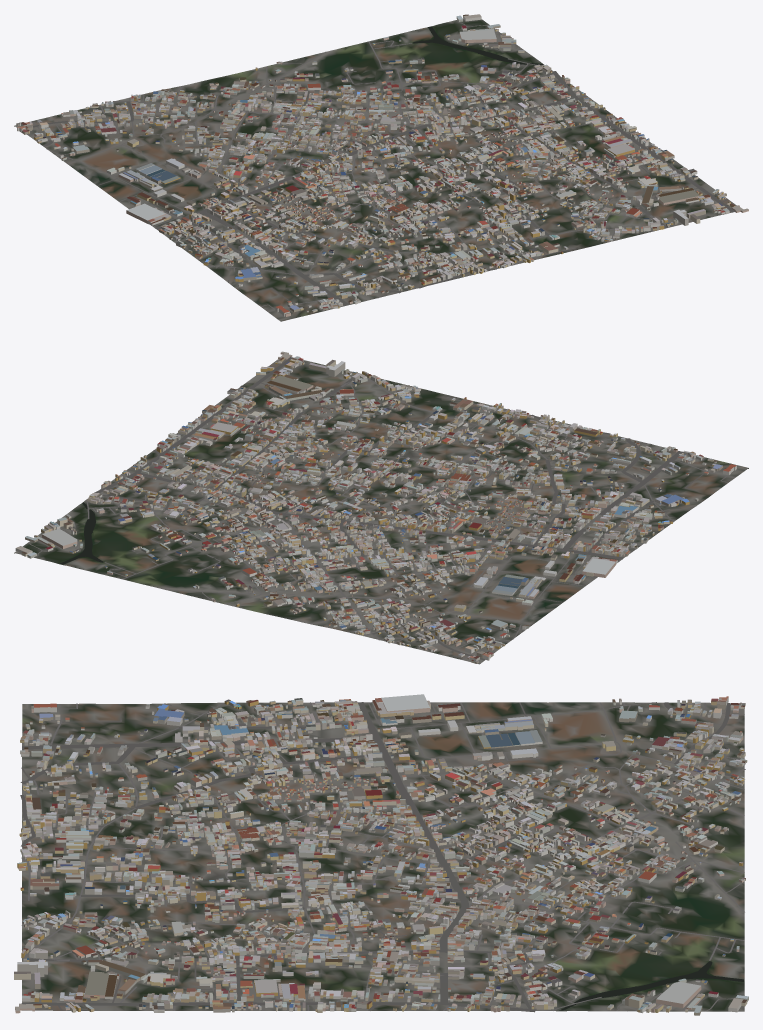
3 views of the same model, one above another, from view 1: azimuth 30°, elevation 25°; view 2: azimuth 150°, elevation 25°; view 3: azimuth 270°, elevation 25° (orthographic). The views are drawn at different scales.
Visible parts, largest first — view 1: buildings, ground, roads, water; view 2: ground, buildings, roads, water; view 3: ground, buildings, roads, water.
Boxes of the visible parts, x1,y1,x2,y2 form: buildings: [16, 14, 748, 316]; ground: [14, 18, 736, 321]; roads: [29, 21, 735, 311]; water: [412, 26, 543, 64]; ground: [14, 359, 748, 664]; buildings: [15, 351, 736, 663]; roads: [28, 357, 734, 660]; water: [59, 502, 103, 564]; ground: [22, 702, 744, 1011]; buildings: [14, 694, 748, 1015]; roads: [20, 702, 745, 1012]; water: [559, 961, 743, 1010].
Size of the model in its own units: 1436 by 27.97 by 1424.
